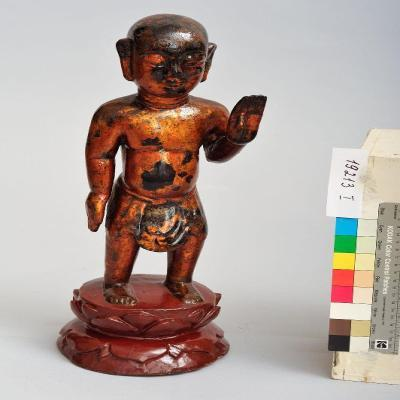sculpture: (56, 14, 267, 377)
